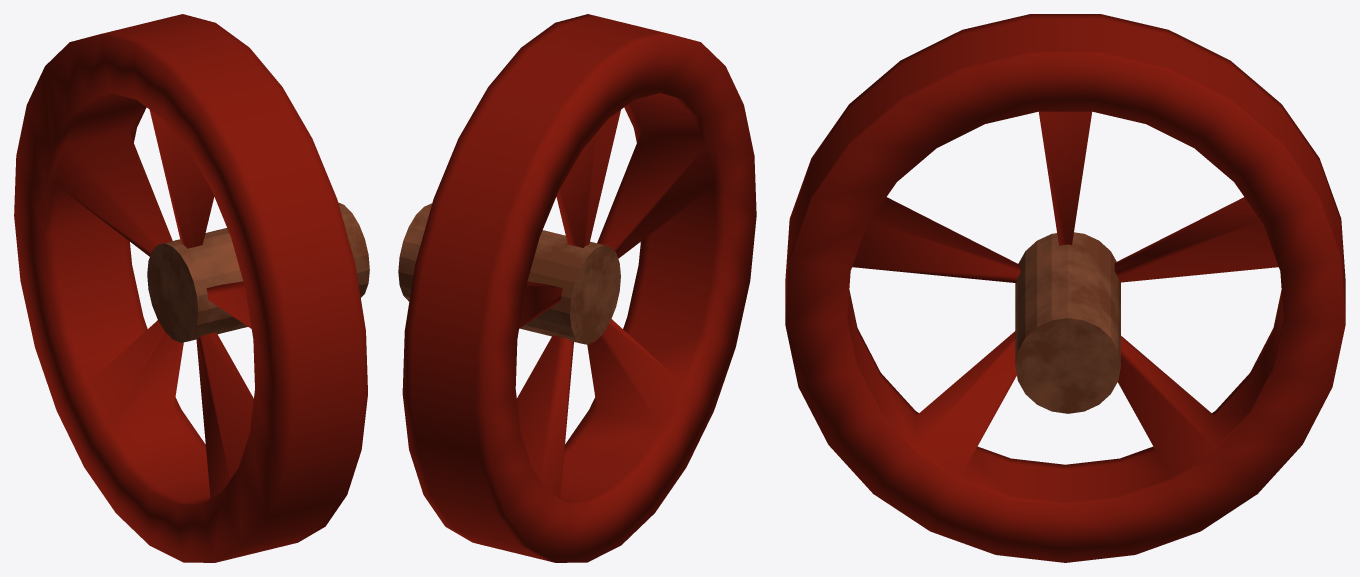
File: Final_Boiler valve.glb
3 views of the same model, side by side, from view 1: azimuth 30°, elevation 25°; view 2: azimuth 150°, elevation 25°; view 3: azimuth 270°, elevation 25° (orthographic). The views are drawn at different scales.
Visible parts, largest first — view 1: Valve, Cylinder.014; view 2: Valve, Cylinder.014; view 3: Valve, Cylinder.014.
Boxes of the visible parts, <box> form: Valve: <box>14,14,367,562</box>; Cylinder.014: <box>147,202,369,342</box>; Valve: <box>402,14,756,562</box>; Cylinder.014: <box>398,203,620,344</box>; Valve: <box>785,14,1345,562</box>; Cylinder.014: <box>1015,232,1120,413</box>.
Size of the model in its own units: 0.2081 by 0.4971 by 0.4981.
2 materials, 1 textured.
